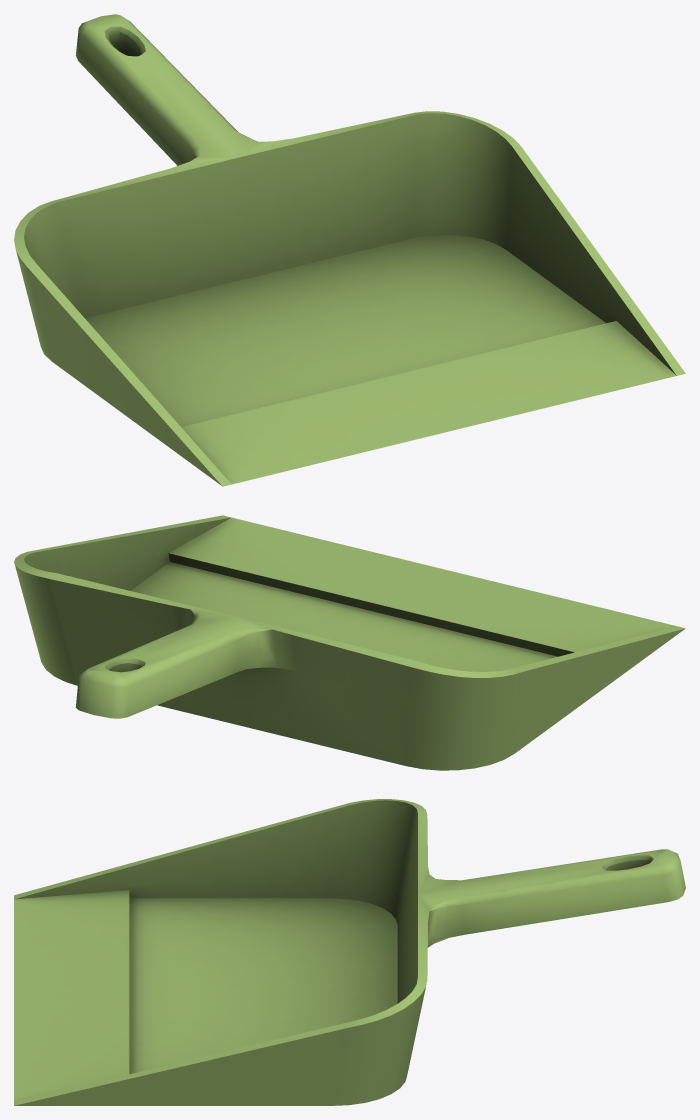
Rendered from obj_dustpan_346_85e03b.glb.
3 views of the same model, one above another, from view 1: azimuth 30°, elevation 25°; view 2: azimuth 150°, elevation 25°; view 3: azimuth 270°, elevation 25° (orthographic). The views are drawn at different scales.
Visible parts, largest first — view 1: obj_dustpan_346_85e03b; view 2: obj_dustpan_346_85e03b; view 3: obj_dustpan_346_85e03b.
Boxes of the visible parts, <box> form: obj_dustpan_346_85e03b: <box>14,14,685,486</box>; obj_dustpan_346_85e03b: <box>14,515,685,770</box>; obj_dustpan_346_85e03b: <box>14,799,685,1105</box>.
Bounding box in the file's own units: 0.2373 × 0.0712 × 0.3.
1 material, 1 textured.
